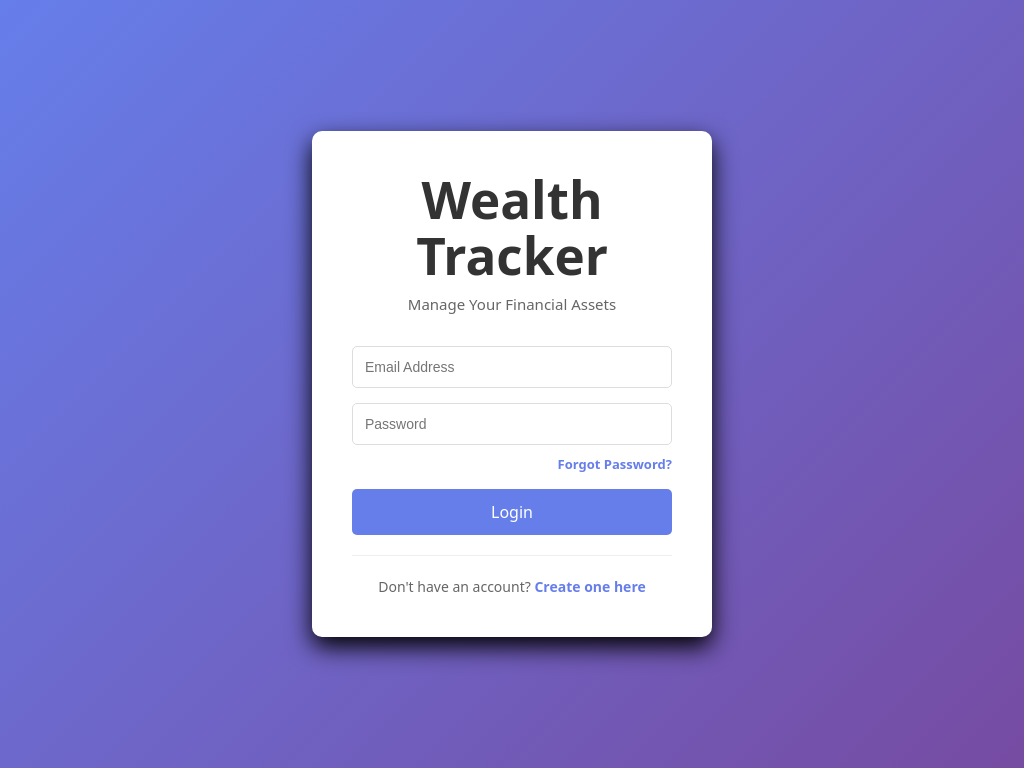
Test: LoginPage › should display error message on login failure
Type "test@example.com" into the field with placeholder "Email Address" at coordinates (512, 367), box [352,346,672,388]
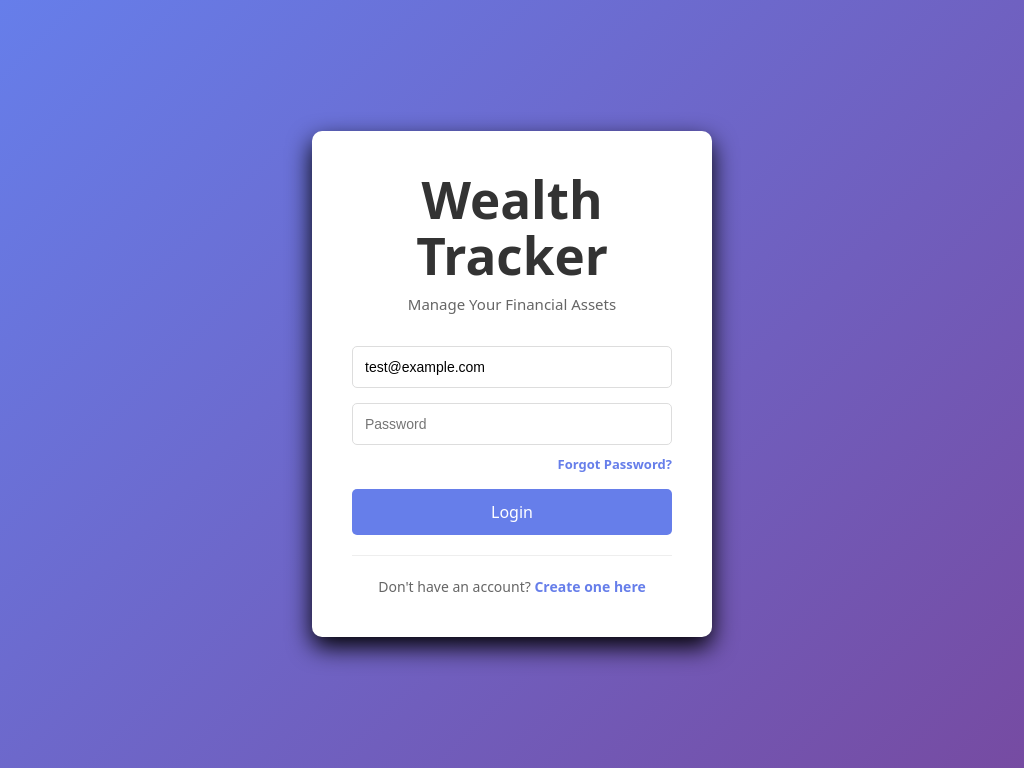
Type "wrongpassword" into the password field with placeholder "Password" at coordinates (512, 424), box [352,403,672,445]
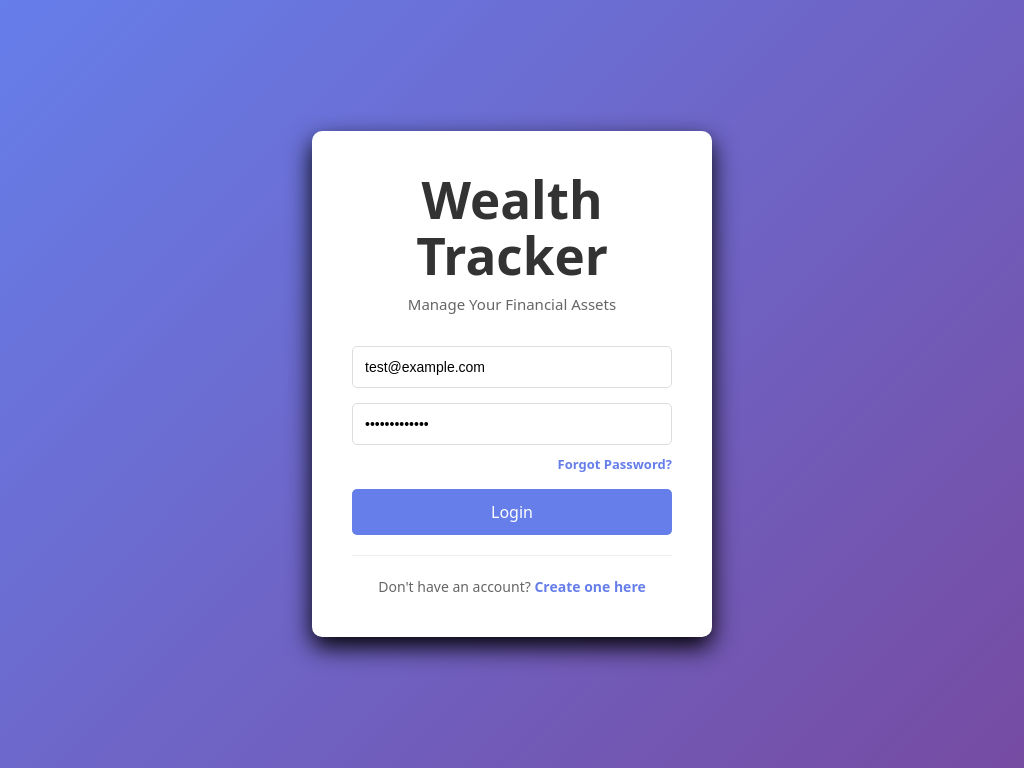
Click the button "Login" at coordinates (512, 512), box [352,489,672,535]
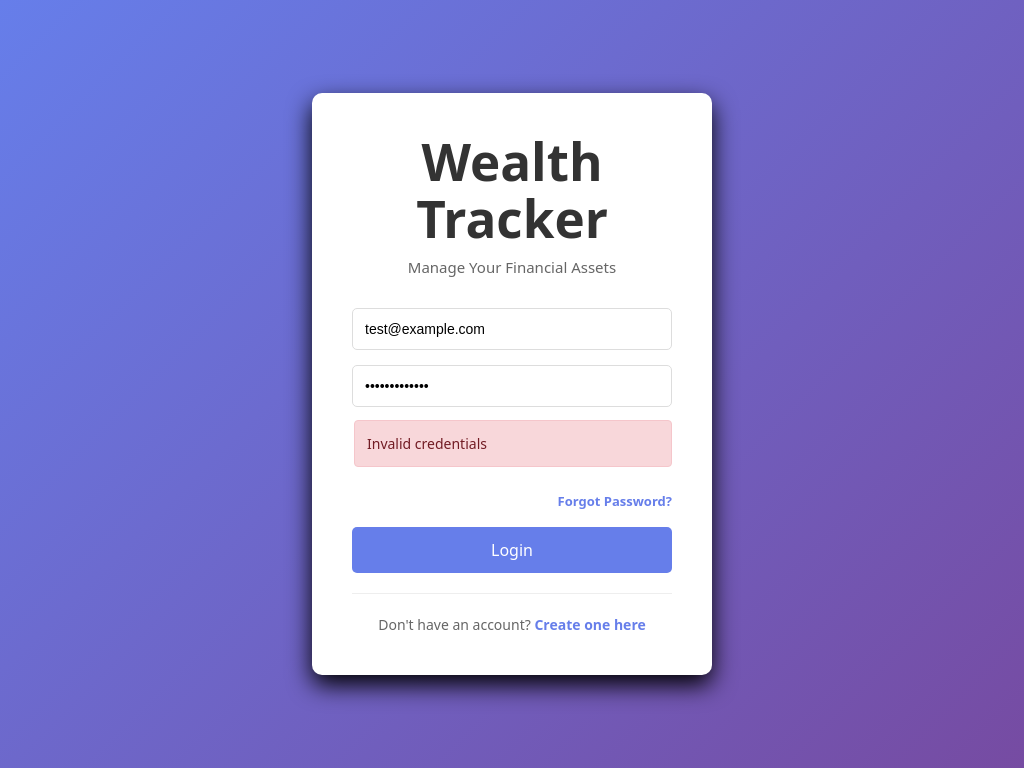
Result: the text "Invalid credentials" is shown at [354,420,672,467]
